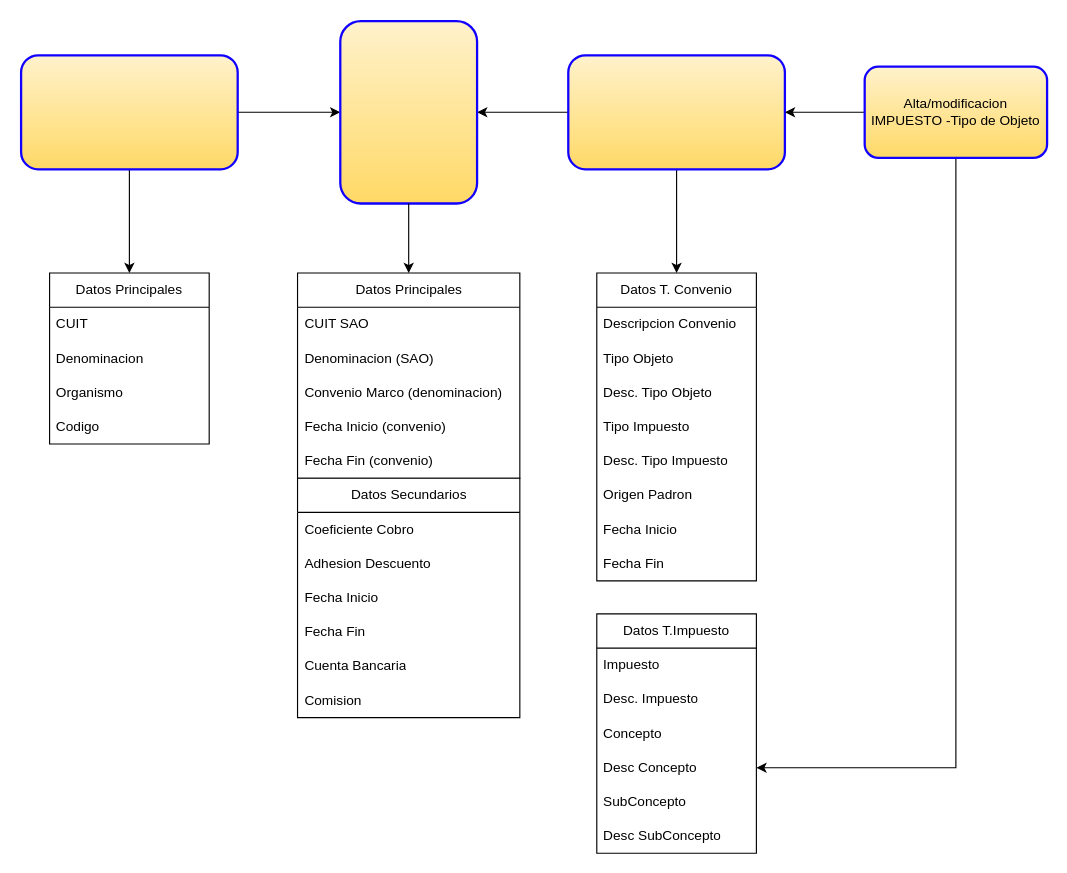
The diagram is 1067 pixels wide and 873 high, and some of its shapes have lost their labels. Each missing label, with the centre of its shape:
"Alta/Modificacion CONVENIO MARCO" goes at (x=676, y=112).
"Alta/Modificacion Sujeto Activo SAO" goes at (x=128, y=112).
"Vinculo SAO/Convenio" goes at (x=408, y=111).
